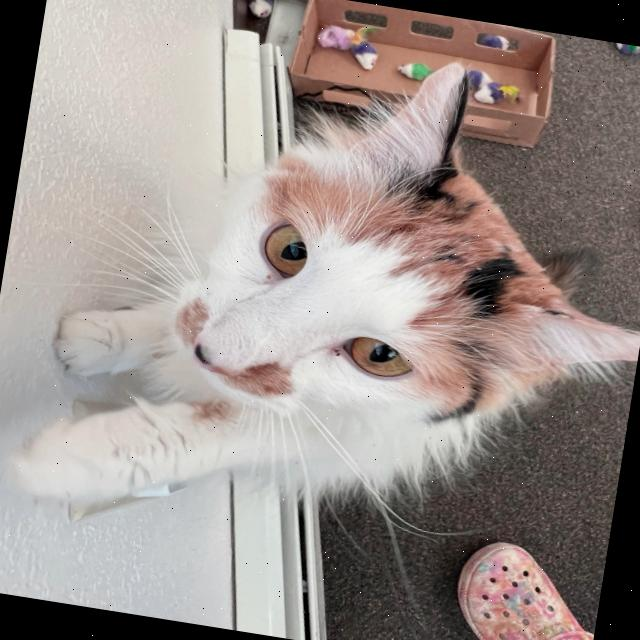domestic_long_hair_cat: (134, 14, 640, 490)
